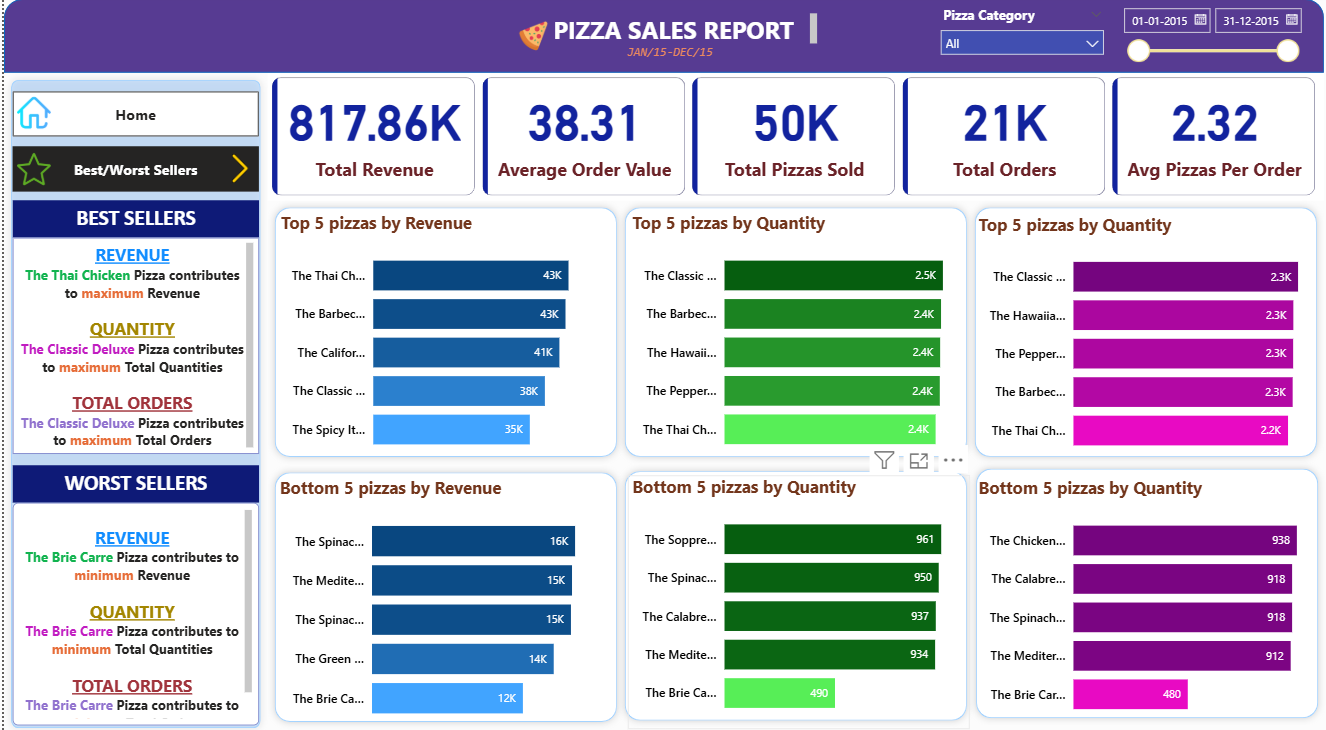

What the dashboard file says about the page in this screenshot:
{"tool":"powerbi","page":{"name":"Best/Worst Sellers","canvas":[1500,820],"ordinal":1},"visuals":[{"type":"shape","box":[0,82.2,293.9,738.1],"z":0},{"type":"cardVisual","fields":{"Data":["pizza_sales.Total Revenue","pizza_sales.Average Order Value","pizza_sales.Total Pizzas Sold","pizza_sales.Total Orders","pizza_sales.Avg Pizzas Per Order"]},"box":[293.9,82.2,1176.8,142.1],"z":1000},{"type":"shape","box":[0,0,1470.7,82.2],"z":2000},{"type":"textbox","box":[589.1,11.1,321.7,44.6],"z":3000},{"type":"textbox","box":[689.4,44.6,121.2,30.6],"z":4000},{"type":"image","box":[559.9,19.5,59.9,43.2],"z":5000},{"type":"shape","box":[293.9,224.2,396.9,294],"z":6000},{"type":"textbox","box":[9.7,224.2,274.4,41.8],"z":7000},{"type":"textbox","box":[9.7,266,274.4,240.9],"z":8000},{"type":"textbox","box":[9.7,519.5,274.4,41.8],"z":9000},{"type":"textbox","box":[9.7,561.2,274.4,247.9],"z":10000},{"type":"slicer","fields":{"Values":["pizza_sales.pizza_category"]},"box":[1033.4,2.8,201.9,61.3],"z":11000},{"type":"slicer","fields":{"Values":["pizza_sales.order_date"]},"box":[1235.3,0,215.9,82.2],"z":12000},{"type":"shape","box":[683.8,224.2,396.9,293.9],"z":13000},{"type":"shape","box":[1073.7,224.2,396.9,293.9],"z":14000},{"type":"shape","box":[293.9,519.5,396.9,294],"z":15000},{"type":"shape","box":[683.8,518.1,396.9,293.9],"z":16000},{"type":"shape","box":[1075.1,515.3,396.9,293.9],"z":17000},{"type":"barChart","title":"Top 5 pizzas by Revenue ","fields":{"Category":["pizza_sales.pizza_name"],"Y":["pizza_sales.Total Revenue"]},"box":[303.9,236.4,379.5,283],"z":18000},{"type":"barChart","title":"Bottom 5 pizzas by Revenue ","fields":{"Category":["pizza_sales.pizza_name"],"Y":["pizza_sales.Total Revenue"]},"box":[302.3,532.3,379.5,287.8],"z":19000},{"type":"barChart","title":"Top 5 pizzas by Quantity ","fields":{"Category":["pizza_sales.pizza_name"],"Y":["pizza_sales.Total Pizzas Sold"]},"box":[694.9,236.8,380.2,282.7],"z":20000},{"type":"barChart","title":"Bottom 5 pizzas by Quantity ","fields":{"Category":["pizza_sales.pizza_name"],"Y":["pizza_sales.Total Pizzas Sold"]},"box":[694.9,530.6,380.2,282.7],"z":21000},{"type":"barChart","title":"Top 5 pizzas by Quantity ","fields":{"Category":["pizza_sales.pizza_name"],"Y":["pizza_sales.Total Orders"]},"box":[1080.7,238.1,391.3,282.7],"z":22000},{"type":"barChart","title":"Bottom 5 pizzas by Quantity ","fields":{"Category":["pizza_sales.pizza_name"],"Y":["pizza_sales.Total Orders"]},"box":[1080.7,532,391.3,282.7],"z":23000},{"type":"pageNavigator","box":[9.7,164.3,274.4,50.1],"z":24000},{"type":"pageNavigator","box":[9.7,103.1,274.4,50.1],"z":25000},{"type":"image","box":[242.3,167.1,41.8,43.2],"z":26000},{"type":"image","box":[9.7,100.3,47.4,52.9],"z":27000},{"type":"image","box":[9.7,158.8,47.4,61.3],"z":28000}]}

Visuals, with their boxes in screenshot pixels (x1, y1, x2, y2), scaled from the page's 1500x820 canvas onto the 1326x730 screenshot:
shape: detection(0, 73, 260, 729)
cardVisual - pizza_sales.Total Revenue x pizza_sales.Average Order Value: detection(260, 73, 1300, 200)
shape: detection(0, 0, 1300, 73)
textbox: detection(521, 10, 805, 50)
textbox: detection(609, 40, 717, 67)
image: detection(495, 17, 548, 56)
shape: detection(260, 200, 611, 461)
textbox: detection(9, 200, 251, 237)
textbox: detection(9, 237, 251, 451)
textbox: detection(9, 462, 251, 500)
textbox: detection(9, 500, 251, 720)
slicer - pizza_sales.pizza_category: detection(914, 2, 1092, 57)
slicer - pizza_sales.order_date: detection(1092, 0, 1283, 73)
shape: detection(604, 200, 955, 461)
shape: detection(949, 200, 1300, 461)
shape: detection(260, 462, 611, 724)
shape: detection(604, 461, 955, 723)
shape: detection(950, 459, 1301, 720)
"Top 5 pizzas by Revenue " barChart: detection(269, 210, 604, 462)
"Bottom 5 pizzas by Revenue " barChart: detection(267, 474, 603, 729)
"Top 5 pizzas by Quantity " barChart: detection(614, 211, 950, 462)
"Bottom 5 pizzas by Quantity " barChart: detection(614, 472, 950, 724)
"Top 5 pizzas by Quantity " barChart: detection(955, 212, 1301, 464)
"Bottom 5 pizzas by Quantity " barChart: detection(955, 474, 1301, 725)
pageNavigator: detection(9, 146, 251, 191)
pageNavigator: detection(9, 92, 251, 136)
image: detection(214, 149, 251, 187)
image: detection(9, 89, 50, 136)
image: detection(9, 141, 50, 196)
